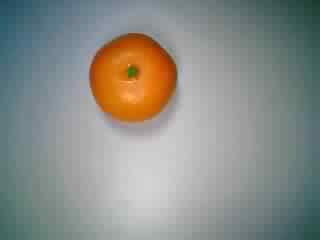orange: (85, 26, 180, 128)
